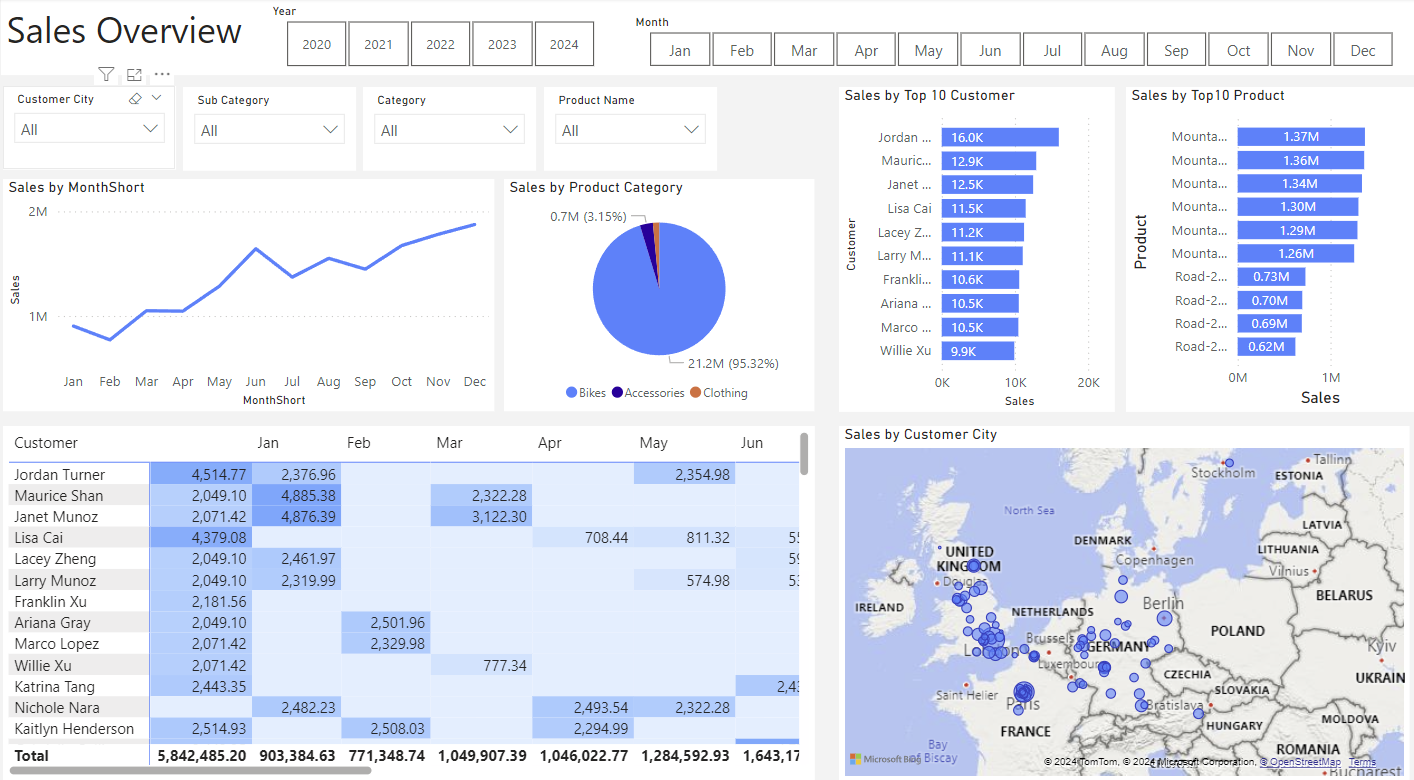

The page's visual inventory and layout, read from the dashboard file:
{"tool":"powerbi","page":{"name":"Page 1","canvas":[1280,720],"ordinal":0},"visuals":[{"type":"textbox","box":[9.7,0,1269.9,68.6],"z":0},{"type":"slicer","fields":{"Values":["DIM_Customer.Customer City"]},"box":[11.2,78.5,154.7,75.1],"z":1000},{"type":"slicer","fields":{"Values":["DIM_Product.Sub Category"]},"box":[172.6,79.6,154.7,75.1],"z":2000},{"type":"slicer","fields":{"Values":["DIM_Product.Product Category"]},"box":[334,79.6,154.7,75.1],"z":3000},{"type":"slicer","fields":{"Values":["DIM_Product.Product Name"]},"box":[496.5,79.6,154.7,75.1],"z":4000},{"type":"slicer","fields":{"Values":["DIM_Customer.DateFirstPurchase.Variation.Date Hierarchy.Year"]},"box":[239.9,0,325,68.4],"z":5000},{"type":"slicer","fields":{"Values":["DIM_Calendar.MonthShort"]},"box":[564.9,10.1,715.1,58.3],"z":6000},{"type":"pieChart","fields":{"Category":["DIM_Product.Product Category"],"Y":["FACT_InternetSales.Sales"]},"box":[460.7,162.5,278,208.5],"z":7000},{"type":"lineChart","fields":{"Y":["FACT_InternetSales.Sales"],"Category":["DIM_Calendar.MonthShort"]},"box":[11.2,162.5,440.5,208.5],"z":8000},{"type":"barChart","title":"Sales by Top 10 Customer","fields":{"Y":["FACT_InternetSales.Sales"],"Category":["DIM_Customer.Full Name"]},"box":[759.9,79.6,246.6,291.4],"z":9000},{"type":"barChart","title":"Sales by Top10 Product","fields":{"Y":["FACT_InternetSales.Sales"],"Category":["DIM_Product.Product Name"]},"box":[1017.7,79.6,262.3,291.4],"z":10000},{"type":"map","fields":{"Size":["FACT_InternetSales.Sales"],"Category":["DIM_Customer.Customer City"]},"box":[759.9,383.3,511.1,318.3],"z":11000},{"type":"pivotTable","fields":{"Rows":["DIM_Customer.Full Name"],"Values":["FACT_InternetSales.Sales"],"Columns":["DIM_Calendar.MonthShort"]},"box":[11.2,383.3,727.4,318.3],"z":12000}]}

Visuals, with their boxes in screenshot pixels (x1, y1, x2, y2), scaled from the page's 1280x720 canvas onto the 1414x780 screenshot:
textbox: x1=11, y1=0, x2=1413, y2=74
slicer - DIM_Customer.Customer City: x1=12, y1=85, x2=183, y2=166
slicer - DIM_Product.Sub Category: x1=191, y1=86, x2=362, y2=168
slicer - DIM_Product.Product Category: x1=369, y1=86, x2=540, y2=168
slicer - DIM_Product.Product Name: x1=548, y1=86, x2=719, y2=168
slicer - DIM_Customer.DateFirstPurchase.Variation.Date Hierarchy.Year: x1=265, y1=0, x2=624, y2=74
slicer - DIM_Calendar.MonthShort: x1=624, y1=11, x2=1413, y2=74
pieChart - DIM_Product.Product Category x FACT_InternetSales.Sales: x1=509, y1=176, x2=816, y2=402
lineChart - FACT_InternetSales.Sales x DIM_Calendar.MonthShort: x1=12, y1=176, x2=499, y2=402
"Sales by Top 10 Customer" barChart: x1=839, y1=86, x2=1112, y2=402
"Sales by Top10 Product" barChart: x1=1124, y1=86, x2=1413, y2=402
map - FACT_InternetSales.Sales x DIM_Customer.Customer City: x1=839, y1=415, x2=1404, y2=760
pivotTable - DIM_Customer.Full Name x FACT_InternetSales.Sales: x1=12, y1=415, x2=816, y2=760
